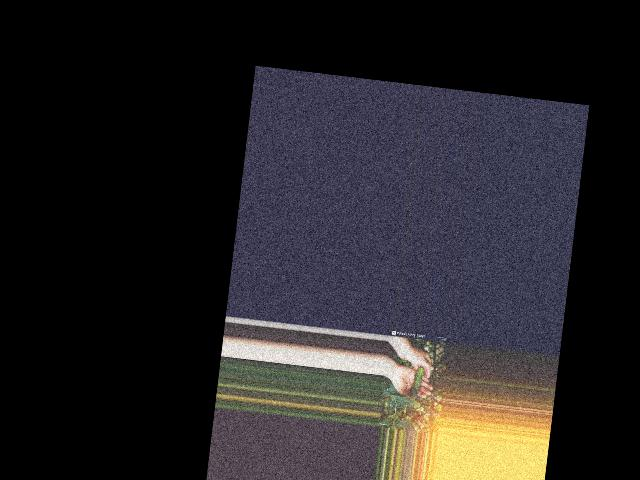cucumber: (410, 366, 424, 397)
